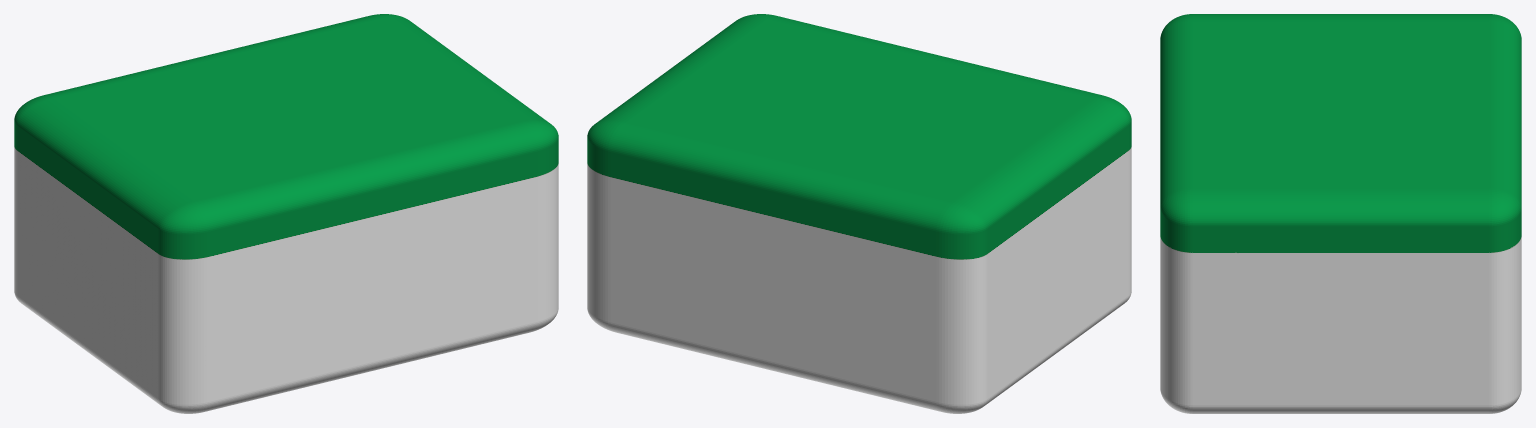
3 views of the same model, side by side, from view 1: azimuth 30°, elevation 25°; view 2: azimuth 150°, elevation 25°; view 3: azimuth 270°, elevation 25° (orthographic). The views are drawn at different scales.
Parts seen in each view (by area): view 1: Cube; view 2: Cube; view 3: Cube.
Boxes of the visible parts, x1,y1,x2,y2 form: Cube: (14,14,558,413); Cube: (587,14,1131,413); Cube: (1160,14,1521,413).
Bounding box in the file's own units: 200 × 100 × 150.
Materials: 1 (1 with a texture image).
